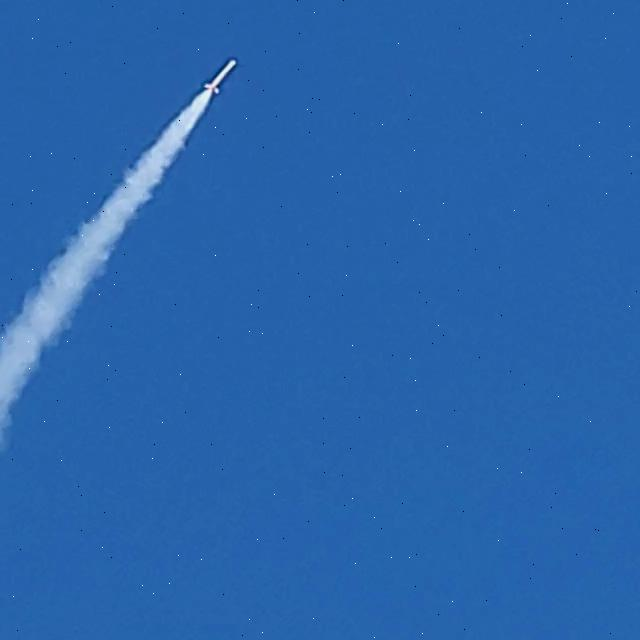smoke_trail_with_rocket: (204, 57, 239, 97)
